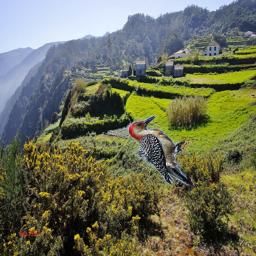Woodpecker: (127, 115, 194, 188)
